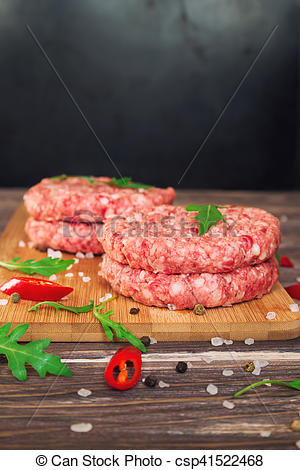ground_beef: (88, 200, 281, 305), (28, 160, 162, 270)
